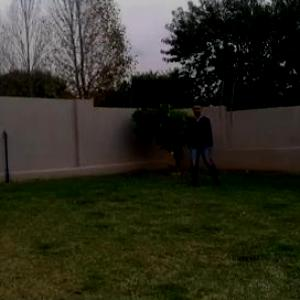follow: (188, 102, 210, 186)
